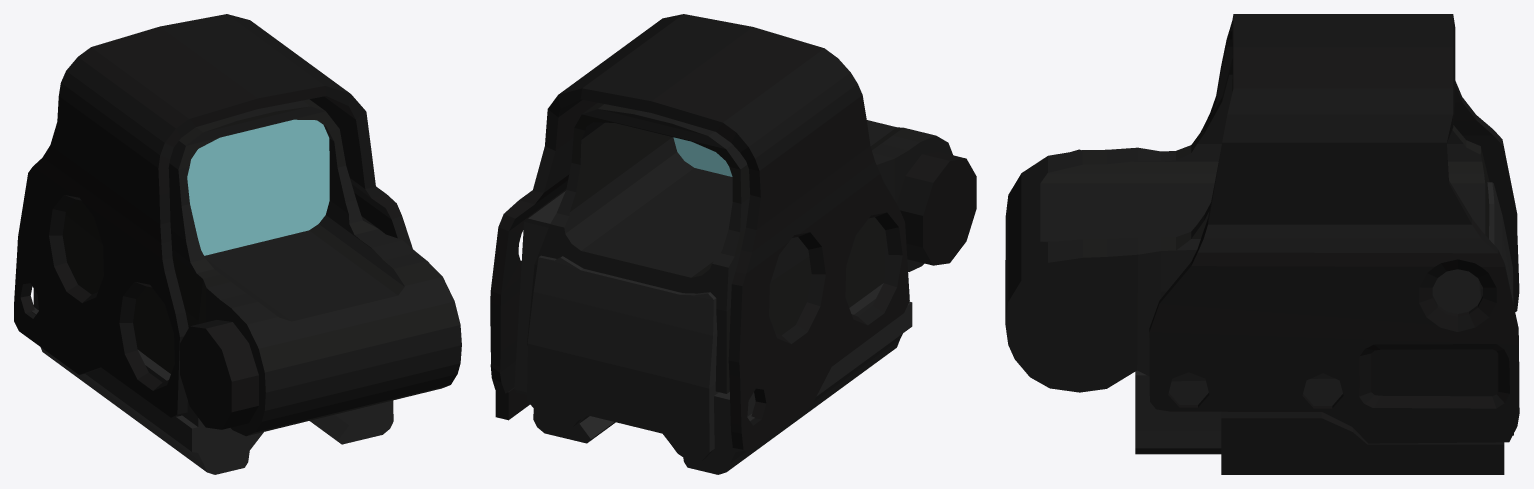
File: Holographic Sight.fbx
The picture shows the model from 3 angles, left to right: view 1: azimuth 30°, elevation 25°; view 2: azimuth 150°, elevation 25°; view 3: azimuth 270°, elevation 25°; orthographic projection. The views are drawn at different scales.
Visible parts, largest first — view 1: Hood, Body, Front window lens, Rail mount, Battery cap; view 2: Hood, Body, Rear panel, Battery cap, Rail mount, Front window lens, Lever; view 3: Hood, Body, Lever, Rail mount, Rear panel.
Part boxes in pixels (x1,y1,x2,y2): Hood: [14, 14, 412, 417]; Body: [62, 99, 461, 436]; Front window lens: [187, 119, 329, 255]; Rail mount: [31, 289, 393, 474]; Battery cap: [180, 320, 258, 429]; Hood: [490, 14, 909, 451]; Body: [527, 102, 952, 393]; Rear panel: [514, 191, 718, 461]; Battery cap: [897, 151, 976, 265]; Rail mount: [533, 283, 912, 474]; Front window lens: [673, 137, 732, 176]; Lever: [495, 387, 529, 420]; Hood: [1149, 14, 1519, 443]; Body: [1005, 58, 1489, 392]; Lever: [1221, 411, 1504, 474]; Rail mount: [1135, 370, 1342, 454]; Rear panel: [1432, 182, 1513, 435].
Size of the model in its own units: 5.85 by 7.28 by 9.35.
